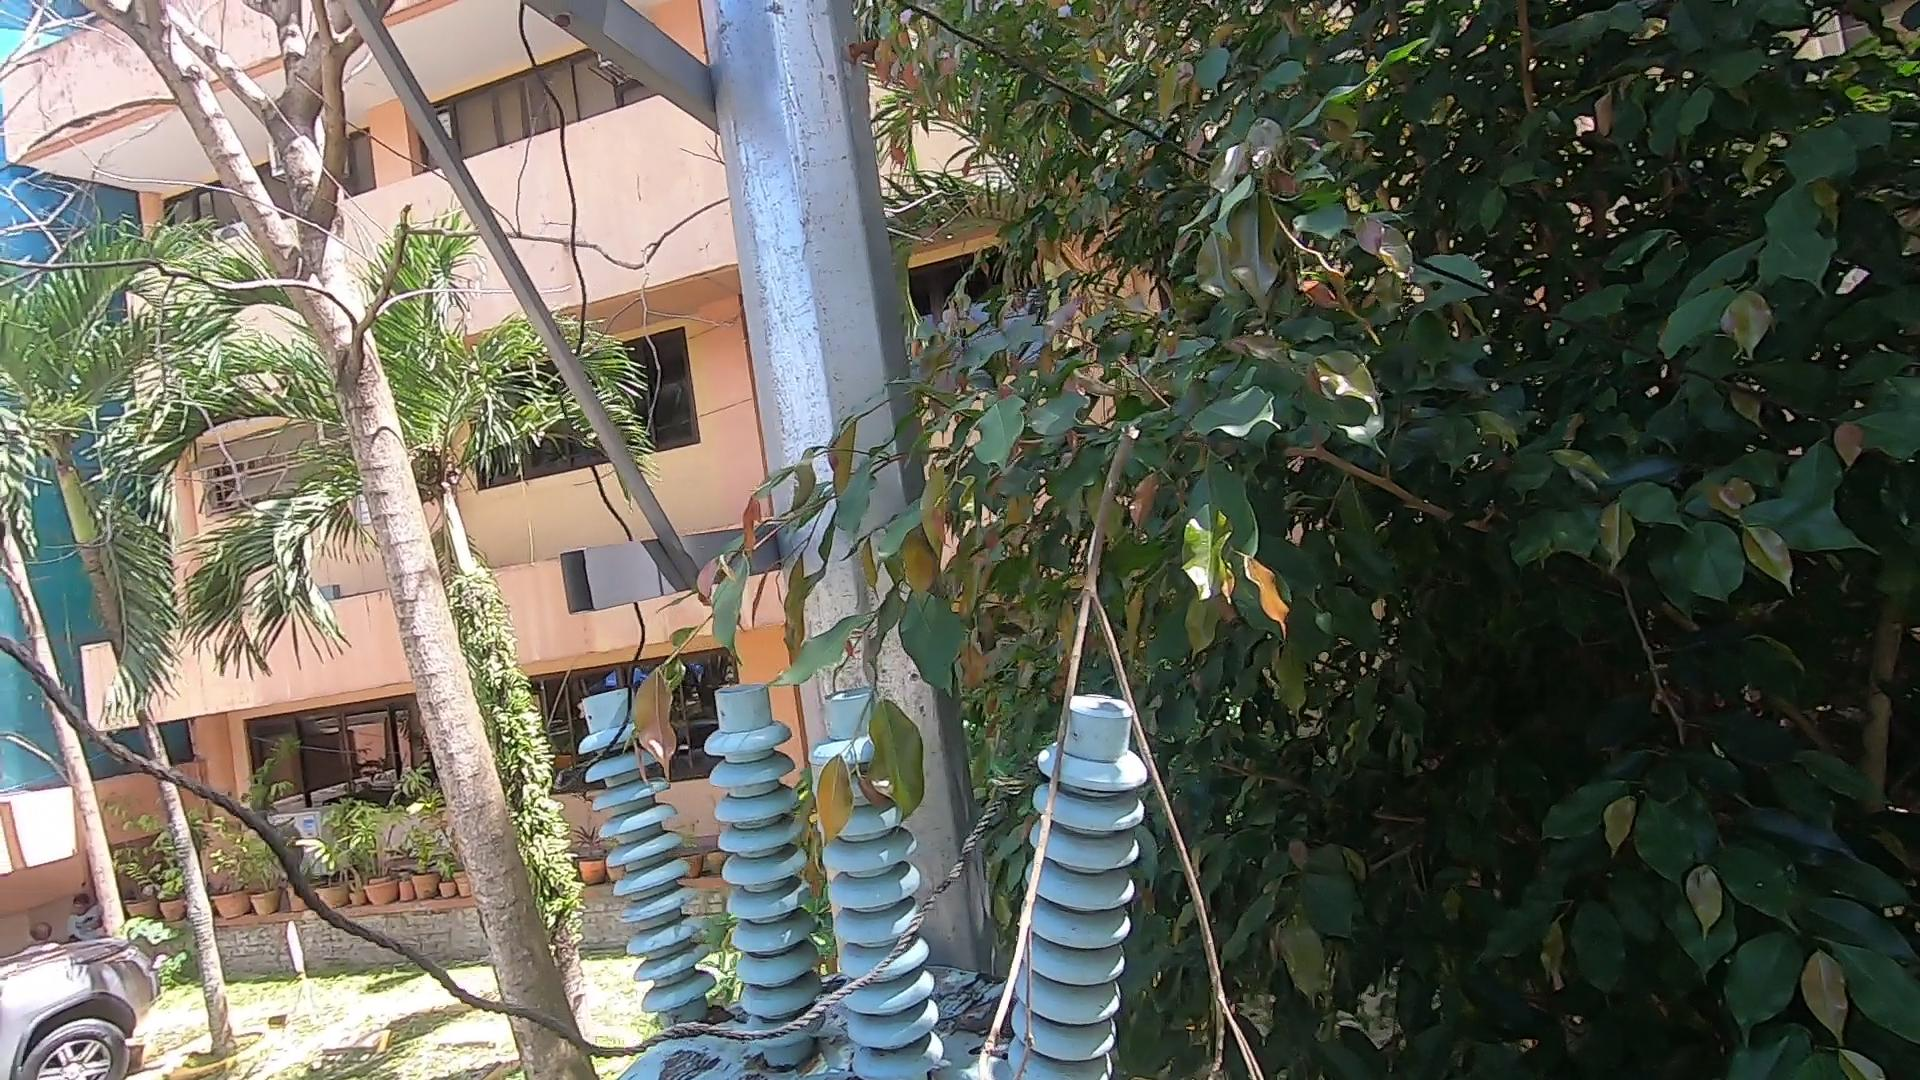branch with leaves: (961, 419, 1270, 1065)
leaf: (709, 1011, 744, 1021)
